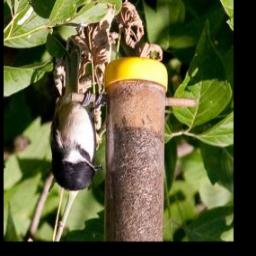Swallow: (49, 85, 106, 195)
